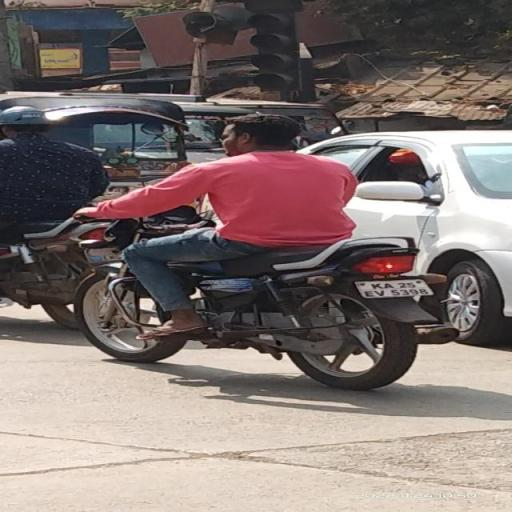bike: (68, 104, 464, 392)
numberplate: (356, 271, 434, 303)
using mobile: (289, 140, 302, 153)
withouthelmet: (224, 114, 298, 154)
